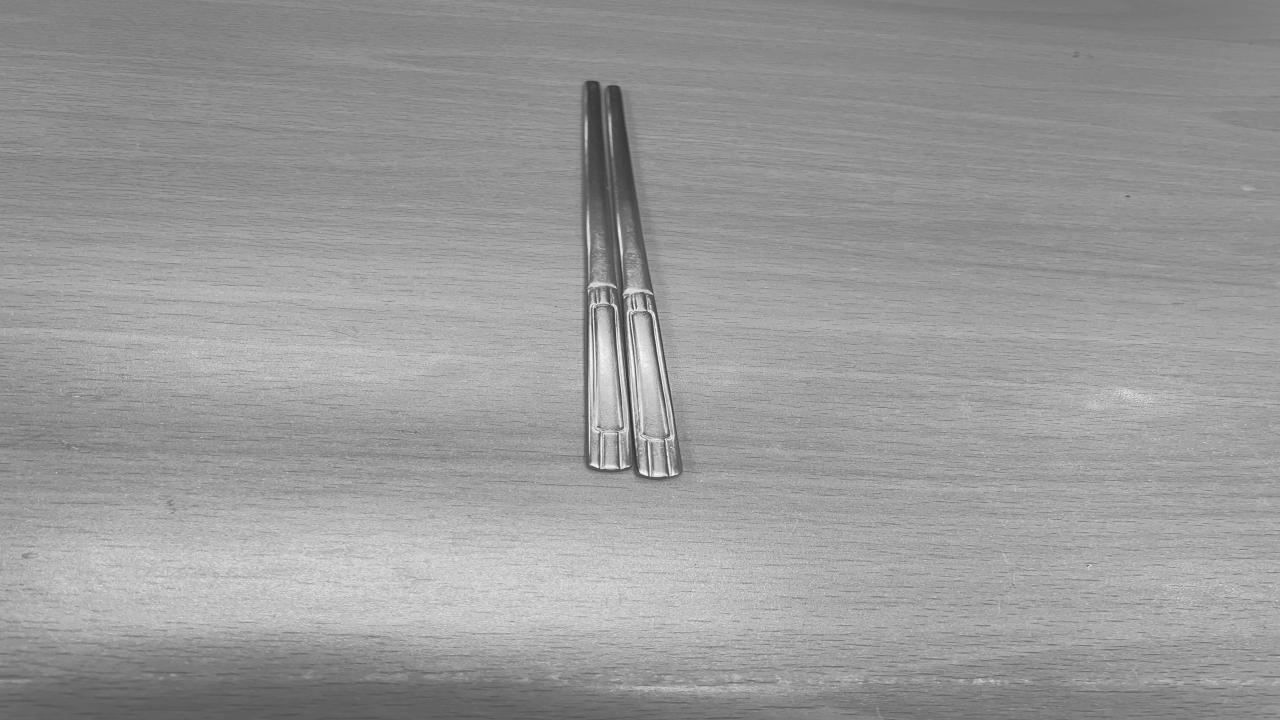chopstick: (582, 80, 675, 474)
